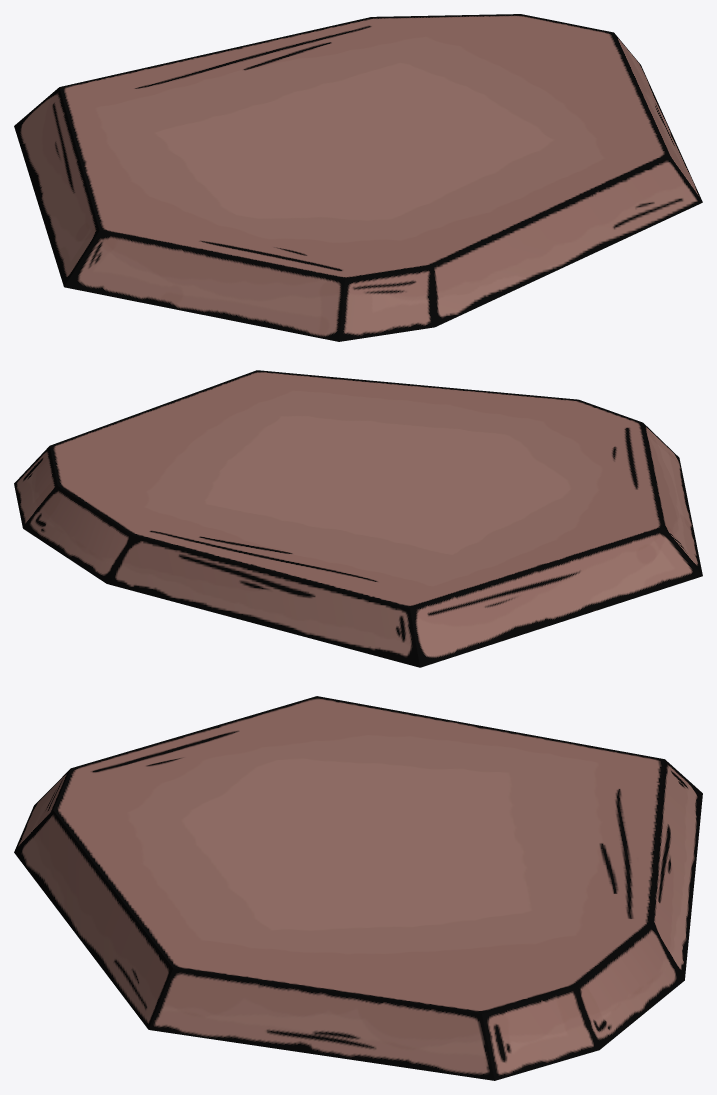
The model's file is StepSteen 3.fbx.
3 views of the same model, one above another, from view 1: azimuth 30°, elevation 25°; view 2: azimuth 150°, elevation 25°; view 3: azimuth 270°, elevation 25° (orthographic). The views are drawn at different scales.
Visible parts, largest first — view 1: Cube.011; view 2: Cube.011; view 3: Cube.011.
Boxes of the visible parts, left/top/right/bottom form: Cube.011: left=14, top=14, right=702, bottom=341; Cube.011: left=14, top=370, right=702, bottom=667; Cube.011: left=14, top=696, right=702, bottom=1080.
Size of the model in its own units: 39.88 by 2.58 by 32.58.
